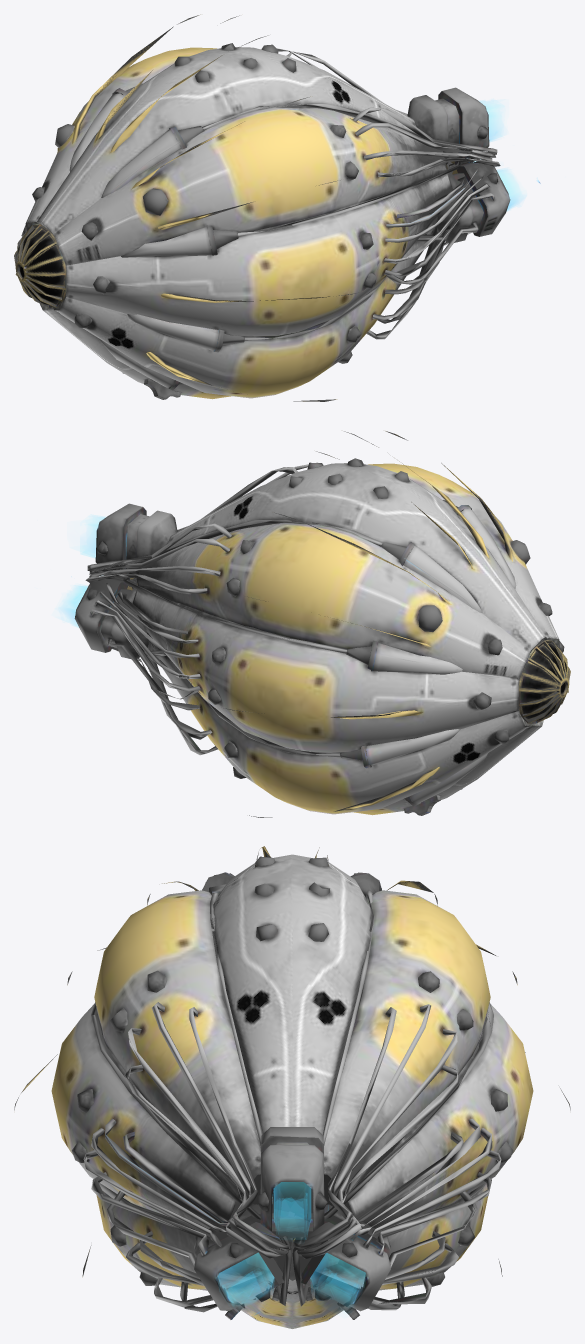
File: scout3.glb
3 renders of one model, top to bottom at view 1: azimuth 30°, elevation 25°; view 2: azimuth 150°, elevation 25°; view 3: azimuth 270°, elevation 25°, orthographic. The views are drawn at different scales.
Visible parts, largest first — view 1: Sphere.152_copy_low; view 2: Sphere.152_copy_low; view 3: Sphere.152_copy_low.
Boxes of the visible parts, x1,y1,x2,y2 form: Sphere.152_copy_low: (14, 14, 540, 401); Sphere.152_copy_low: (60, 431, 570, 817); Sphere.152_copy_low: (14, 846, 570, 1328).
Size of the model in its own units: 1.83 by 1.18 by 1.27.
Materials: 2 (2 with a texture image).
